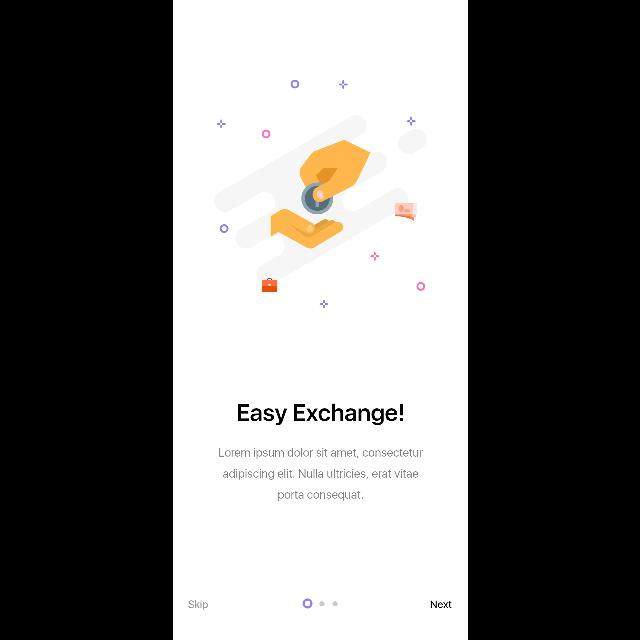image: (212, 79, 426, 309)
pageindicator: (302, 598, 338, 608)
text: (218, 447, 422, 501), (237, 403, 403, 425), (187, 600, 207, 610), (431, 600, 452, 608)
